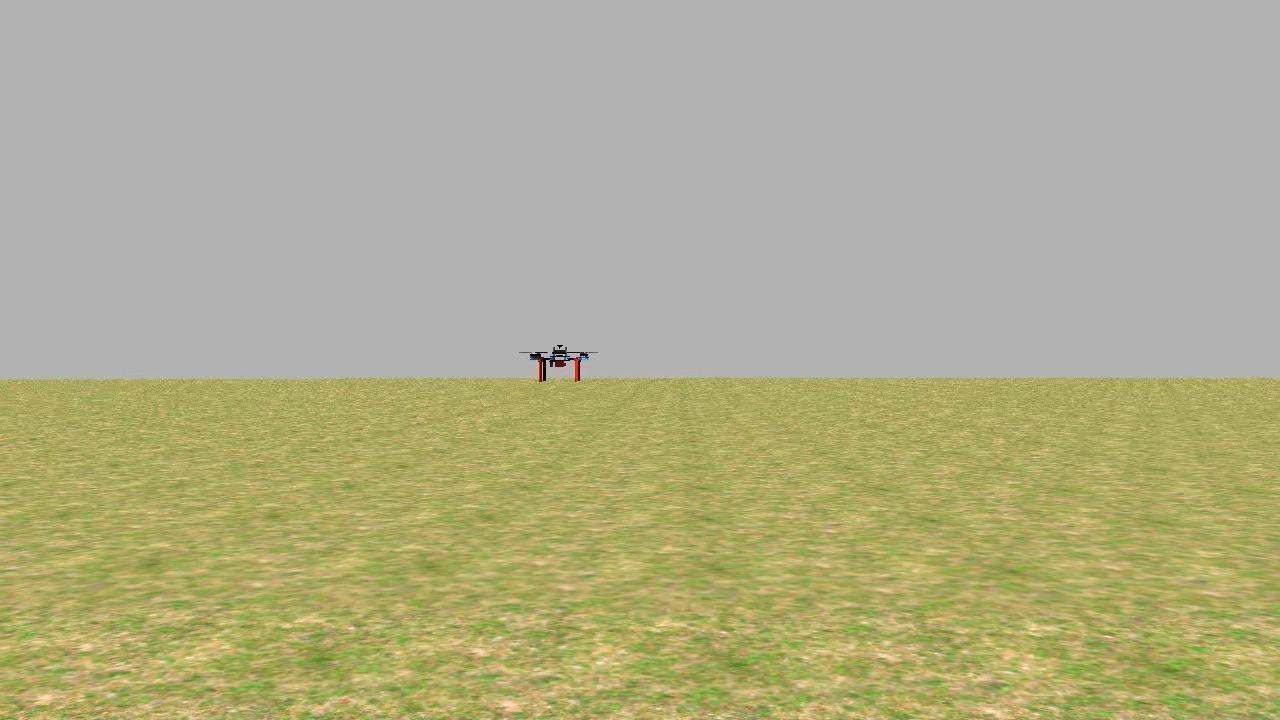UAV: (526, 340, 604, 388)
